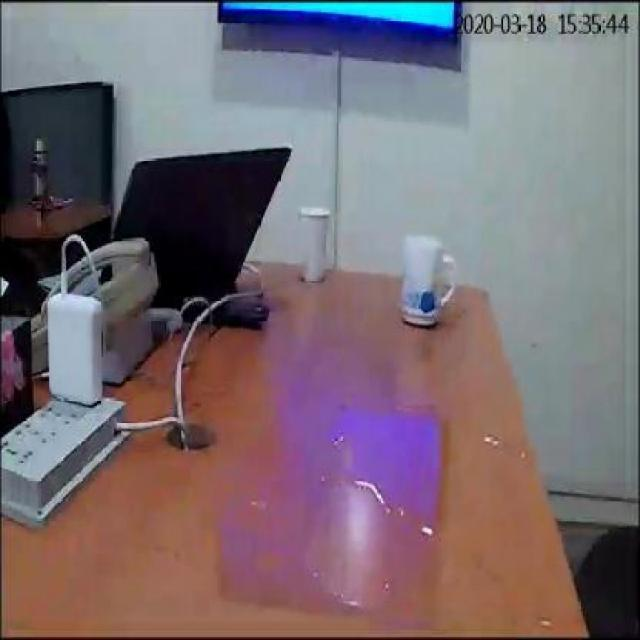spill: (315, 402, 571, 630), (474, 412, 538, 474)
